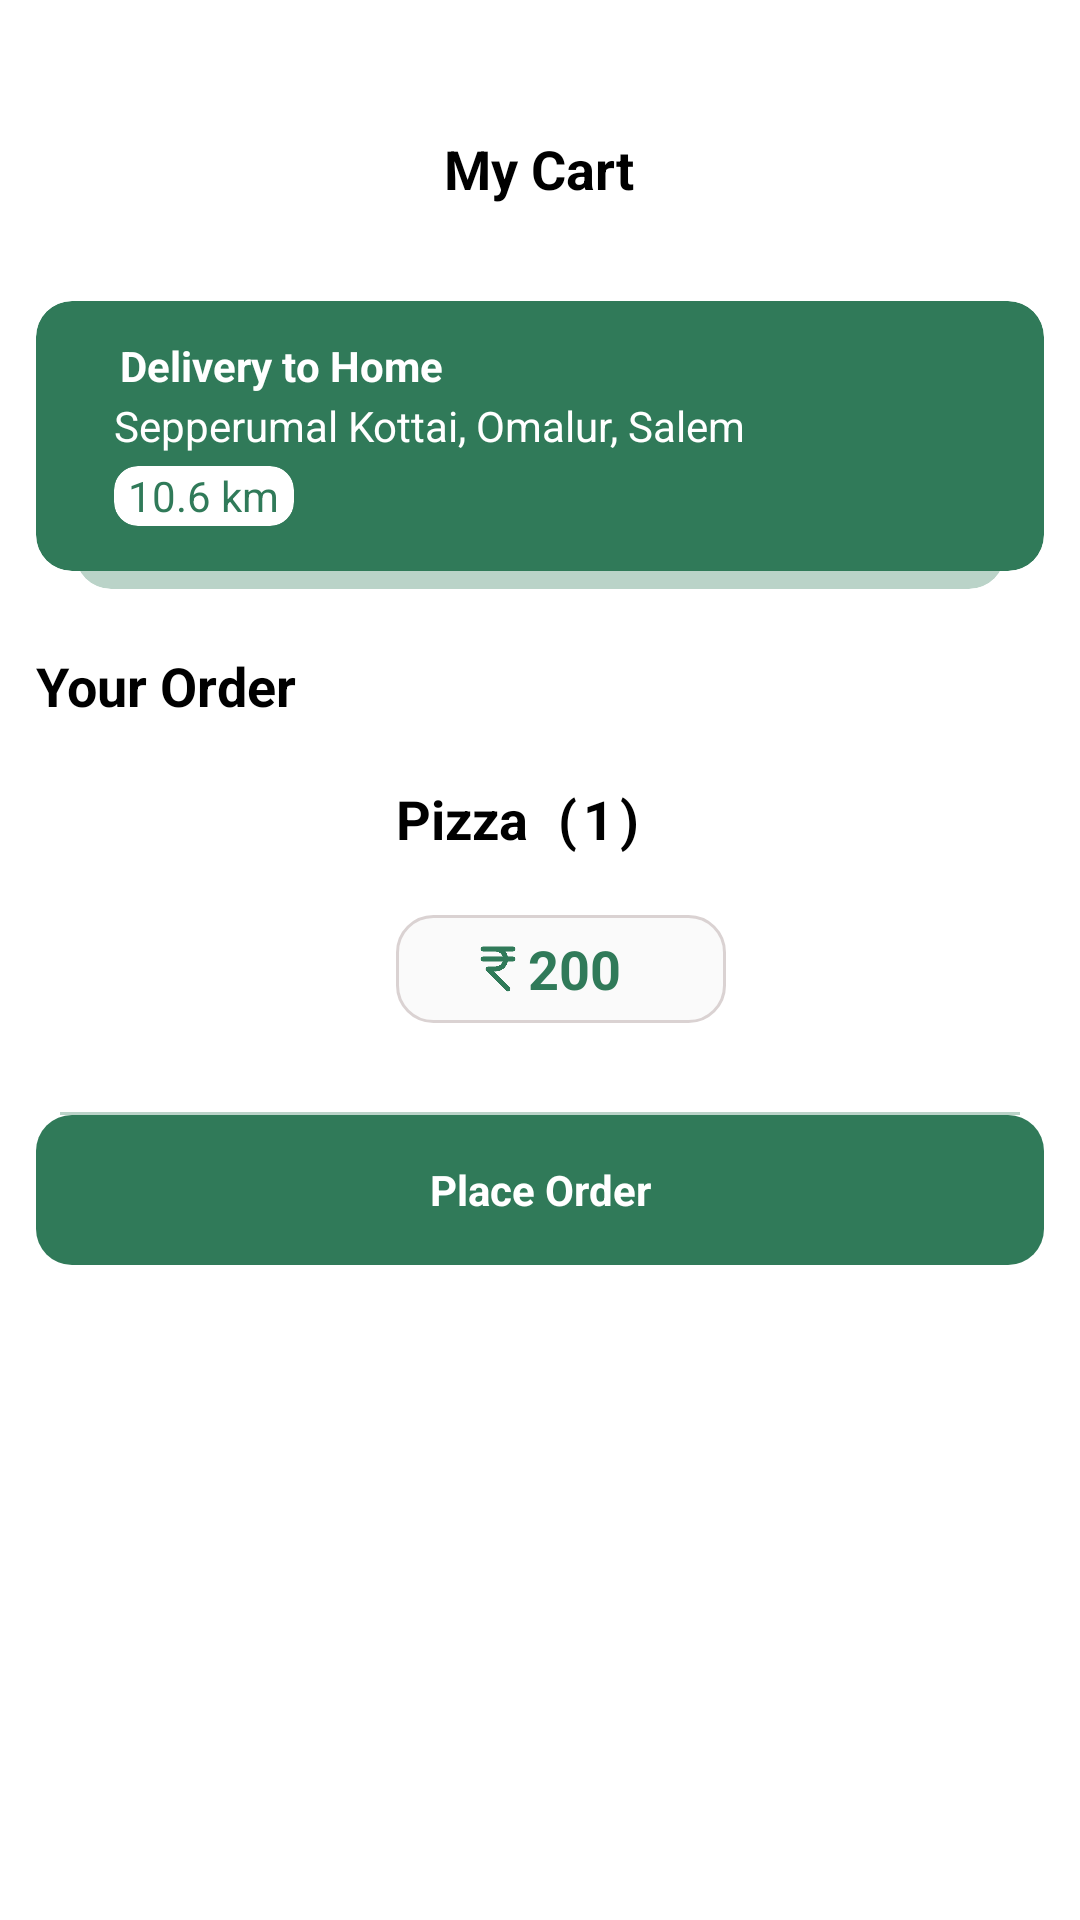

Locate icon controls on the screen. Image size 1080*1920, boxes as Rect(x1, y1, x2, y2).
rupee: Rect(480, 946, 516, 992)
